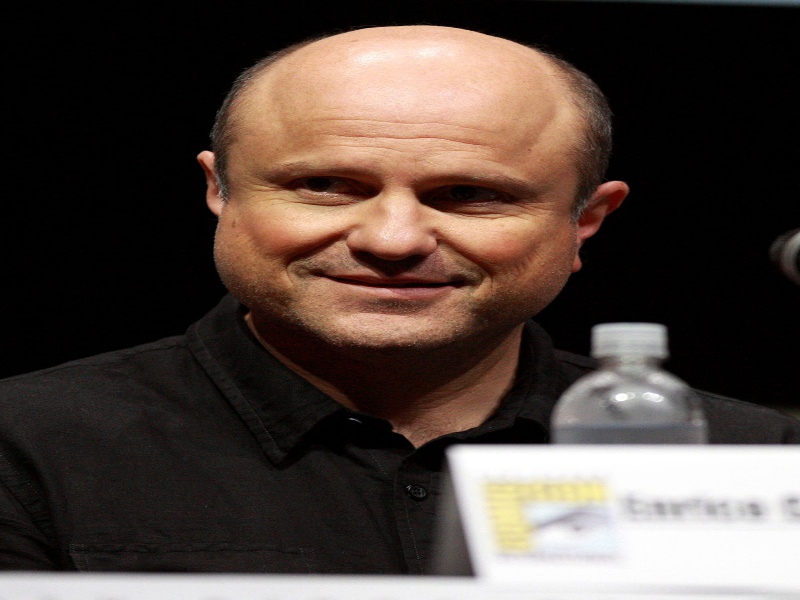TsisyArotava: (190, 40, 628, 355)
